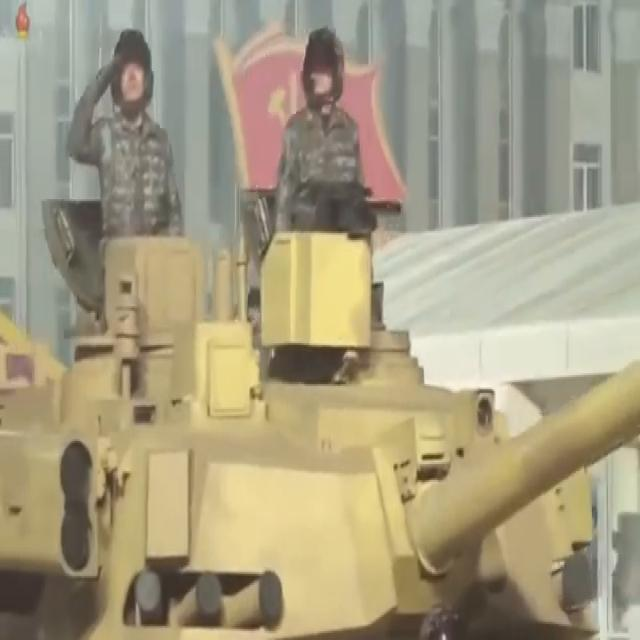north tank: (6, 226, 640, 640)
